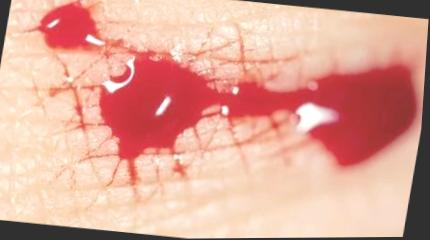Fire: (26, 0, 421, 194)
